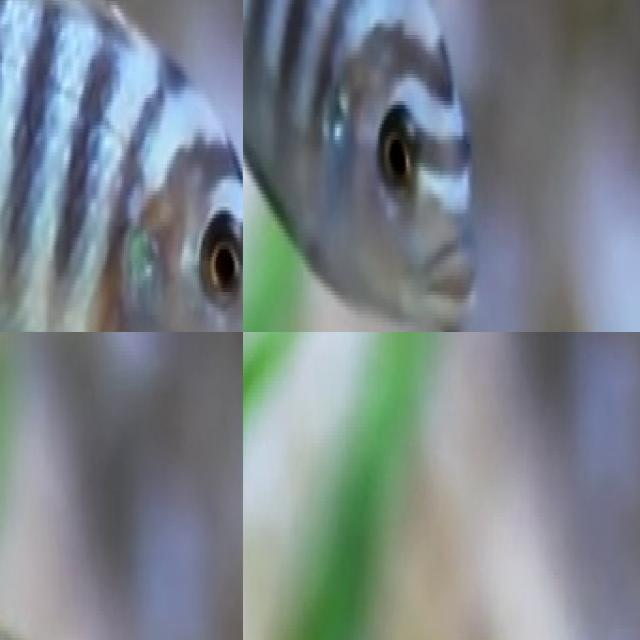fish: (0, 0, 243, 332), (243, 0, 485, 332)
